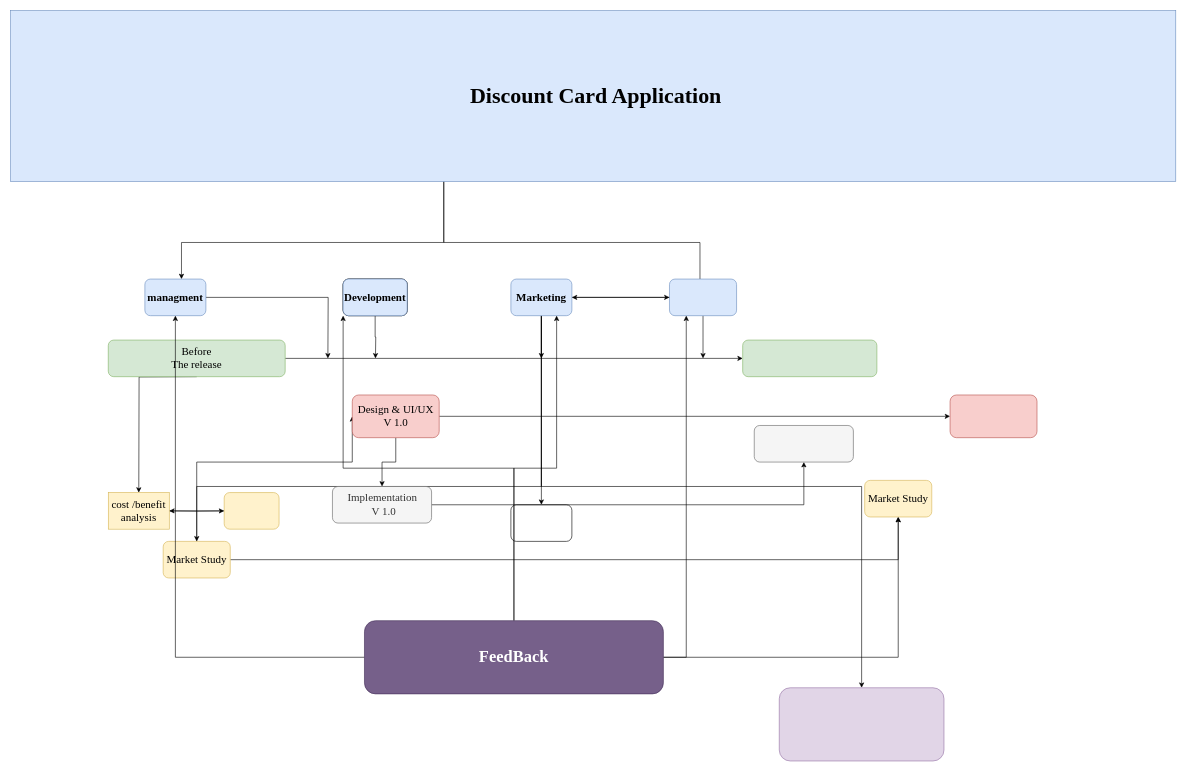
Some shapes in this 1186 by 772 pixel diagram are drawn without their labels. Each missing label, with the box of its shape:
After The release: (742, 339, 877, 377)
Design & UI/UX V 2.0: (949, 394, 1037, 438)
Expanding strategy: (779, 687, 944, 761)
financing: (224, 492, 279, 529)
Implementation V 2.0: (754, 425, 853, 462)
Public relation: (669, 278, 737, 316)
Sales agents: (510, 504, 572, 541)
